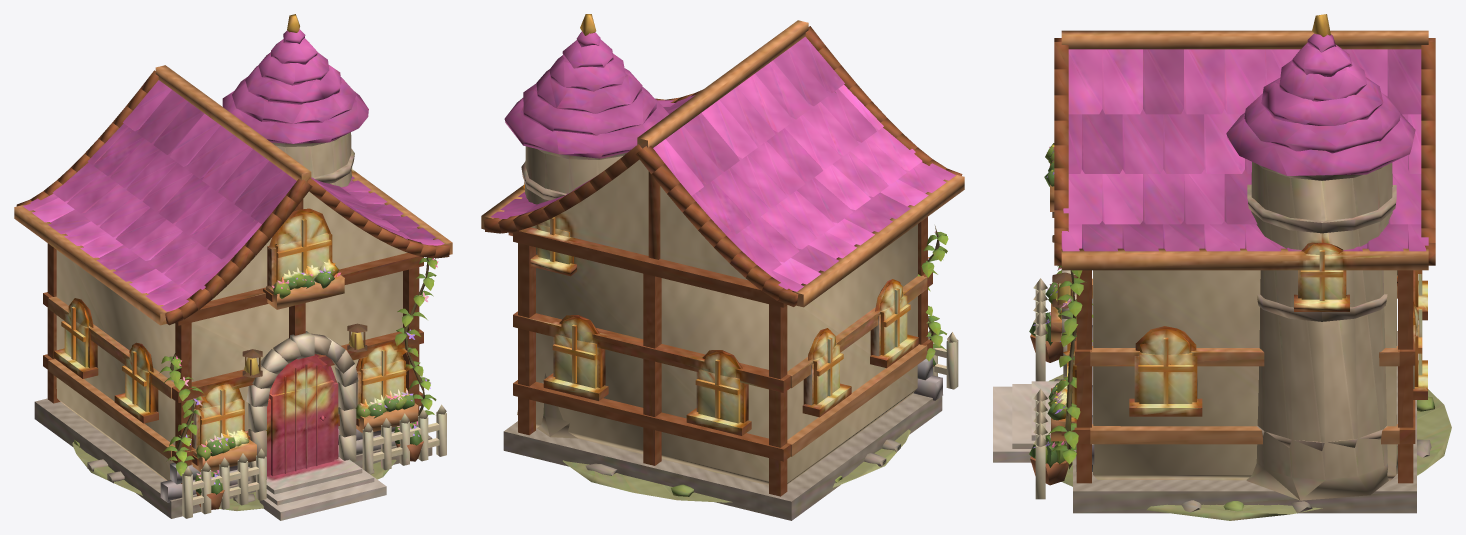
File: bld_lily_house.glb
The picture shows the model from 3 angles, left to right: view 1: azimuth 30°, elevation 25°; view 2: azimuth 150°, elevation 25°; view 3: azimuth 270°, elevation 25°; orthographic projection. The views are drawn at different scales.
Parts seen in each view (by area): view 1: Body; view 2: Body; view 3: Body.
Part boxes in pixels (left/top/right/bottom): Body: left=14, top=14, right=452, bottom=520; Body: left=481, top=14, right=964, bottom=520; Body: left=993, top=14, right=1451, bottom=520.
Bounding box in the file's own units: 4.34 × 5.17 × 4.53.
Materials: 1 (1 with a texture image).
